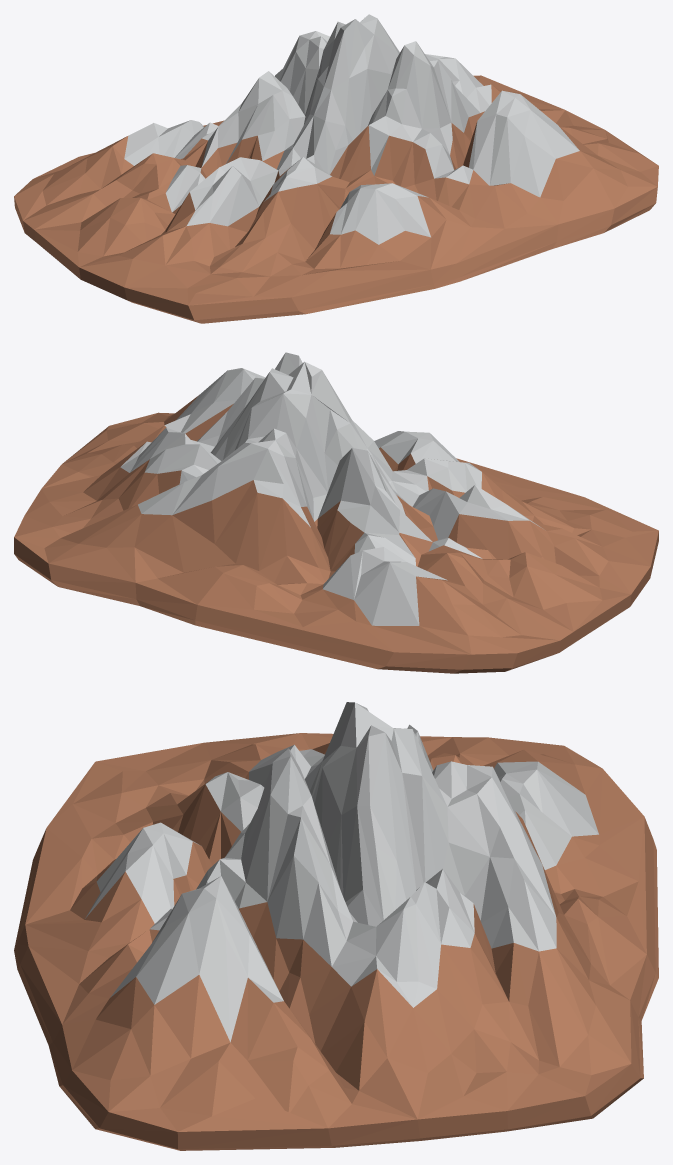
Rendered from mountain_7.fbx.
The picture shows the model from 3 angles, top to bottom: view 1: azimuth 30°, elevation 25°; view 2: azimuth 150°, elevation 25°; view 3: azimuth 270°, elevation 25°; orthographic projection. The views are drawn at different scales.
Visible parts, largest first — view 1: mountain_7; view 2: mountain_7; view 3: mountain_7.
Boxes of the visible parts, x1,y1,x2,y2 form: mountain_7: (14, 14, 658, 323); mountain_7: (14, 352, 658, 673); mountain_7: (14, 702, 658, 1150).
Size of the model in its own units: 5114 by 1628 by 3495.
